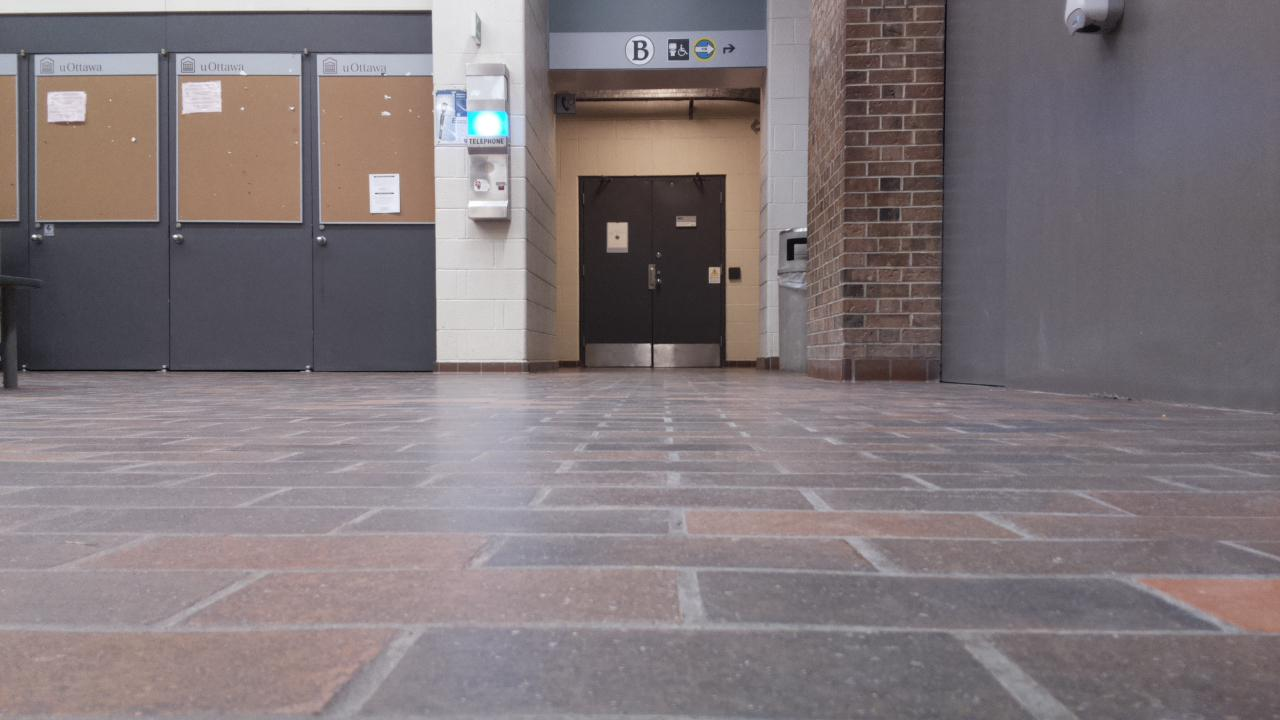door: (167, 52, 314, 371), (28, 53, 170, 369), (309, 52, 435, 370), (584, 178, 722, 367)
sign: (599, 30, 752, 64), (675, 215, 695, 225), (709, 267, 719, 282)
